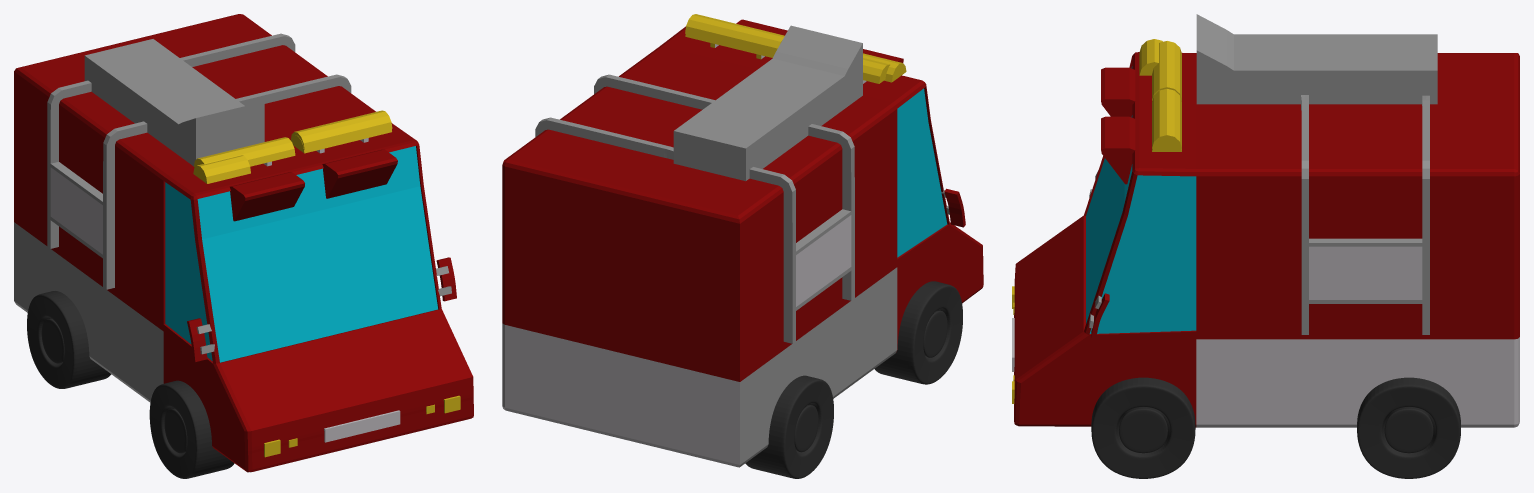
File: bombeirocar.fbx
3 views of the same model, side by side, from view 1: azimuth 30°, elevation 25°; view 2: azimuth 150°, elevation 25°; view 3: azimuth 270°, elevation 25° (orthographic). The views are drawn at different scales.
Parts seen in each view (by area): view 1: Base.001, Cube.073, Cube.072, Cube.081, Cube.080, Cylinder.009, Cylinder.008, Cube.076, Cylinder.007, Cube.075, Cube.074, Cylinder.010; view 2: Base.001, Cube.073, Cube.072, Cylinder.009, Cube.075, Cylinder.008; view 3: Base.001, Cube.056, Cube.071, Cube.081, Cylinder.009, Cube.080, Cylinder.008, Cylinder.007.
Boxes of the visible parts, box(x1,y1,x2,y2) form: Base.001: box(14, 14, 473, 472); Cube.073: box(149, 380, 234, 478); Cube.072: box(27, 291, 111, 388); Cube.081: box(322, 149, 397, 198); Cube.080: box(230, 172, 304, 221); Cylinder.009: box(291, 110, 392, 150); Cylinder.008: box(194, 137, 295, 167); Cube.076: box(324, 410, 400, 442); Cylinder.007: box(193, 155, 250, 183); Cube.075: box(187, 318, 214, 362); Cube.074: box(436, 257, 456, 301); Cylinder.010: box(291, 129, 391, 153); Base.001: box(502, 25, 983, 467); Cube.073: box(874, 281, 962, 384); Cube.072: box(745, 375, 833, 478); Cylinder.009: box(685, 14, 784, 54); Cube.075: box(941, 188, 965, 227); Cylinder.008: box(863, 58, 889, 83); Base.001: box(1014, 14, 1519, 427); Cube.056: box(1091, 377, 1195, 478); Cube.071: box(1357, 377, 1460, 478); Cube.081: box(1101, 116, 1135, 184); Cylinder.009: box(1152, 89, 1181, 148); Cube.080: box(1101, 67, 1135, 117); Cylinder.008: box(1152, 41, 1181, 100); Cylinder.007: box(1139, 39, 1162, 75).
Bounding box in the file's own units: 3.52 × 4.21 × 5.47.
